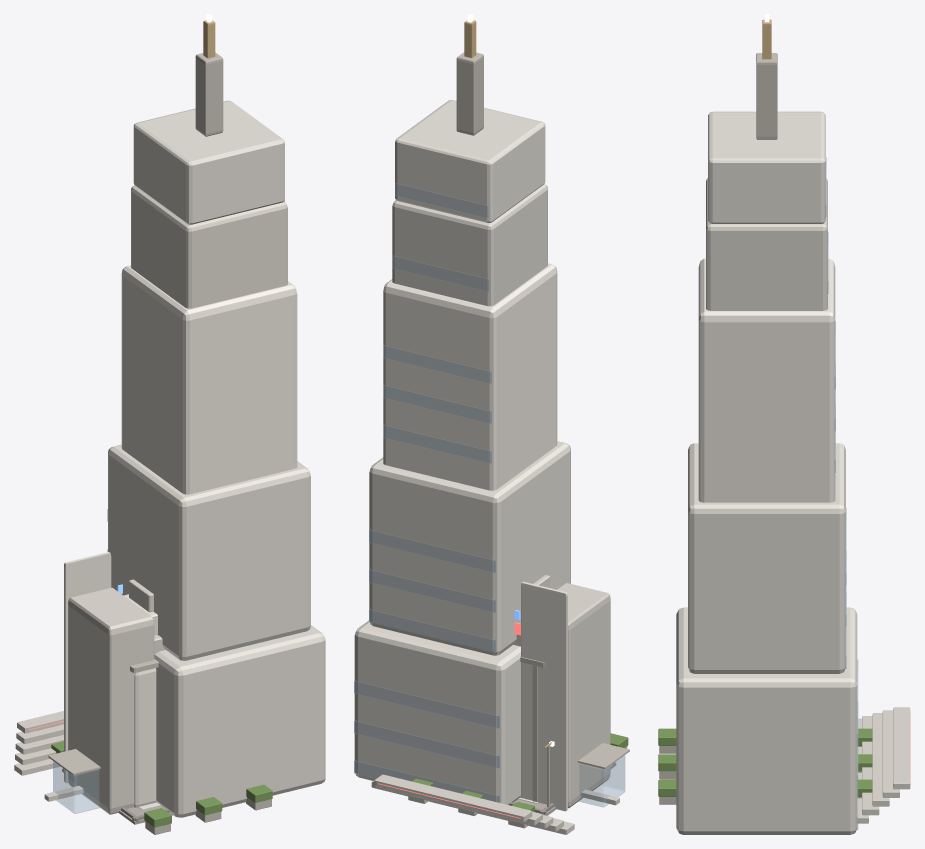
The model's file is wall_street.glb.
3 renders of one model, left to right at view 1: azimuth 30°, elevation 25°; view 2: azimuth 150°, elevation 25°; view 3: azimuth 270°, elevation 25°, orthographic. The views are drawn at different scales.
Visible parts, largest first — view 1: Cube.629, Cube.625, Cube.621, Cube.642, Cube.637, Cube.634, Cube.599, Cube.643, Cube.639, Cube.662, Cube.663, Cube.597; view 2: Cube.629, Cube.625, Cube.621, Cube.637, Cube.634, Cube.643, Cube.642, Cube.639, Cube.597, Cube.623, Cube.624, Cube.662 (+11 smaller); view 3: Cube.621, Cube.625, Cube.629, Cube.637, Cube.634, Cube.639, Cube.597, Cube.595, Cube.596, Cube.594.
Part boxes in pixels (x1,y1,x2,y2): Cube.629: (121, 265, 297, 494); Cube.625: (108, 444, 310, 660); Cube.621: (154, 625, 325, 817); Cube.642: (68, 587, 154, 814); Cube.637: (133, 100, 284, 224); Cube.634: (131, 185, 287, 308); Cube.599: (134, 668, 156, 807); Cube.643: (64, 552, 111, 783); Cube.639: (195, 52, 223, 136); Cube.662: (53, 761, 99, 813); Cube.663: (48, 749, 100, 775); Cube.597: (17, 711, 63, 733); Cube.629: (383, 263, 557, 490); Cube.625: (369, 441, 570, 655); Cube.621: (354, 620, 520, 804); Cube.637: (395, 100, 545, 222); Cube.634: (392, 184, 547, 306); Cube.643: (521, 581, 567, 811); Cube.642: (557, 583, 610, 808); Cube.639: (456, 52, 483, 135); Cube.597: (374, 774, 532, 821); Cube.623: (354, 720, 499, 768); Cube.624: (354, 681, 499, 728); Cube.662: (578, 755, 625, 807); Cube.621: (676, 607, 857, 834); Cube.625: (688, 443, 845, 673); Cube.629: (698, 258, 835, 502); Cube.637: (708, 111, 825, 223); Cube.634: (706, 178, 827, 310); Cube.639: (756, 53, 777, 139); Cube.597: (893, 707, 910, 789); Cube.595: (872, 713, 889, 806); Cube.596: (882, 710, 899, 797); Cube.594: (862, 716, 879, 815).
Bounding box in the file's own units: 19.3 × 60.25 × 17.54.
